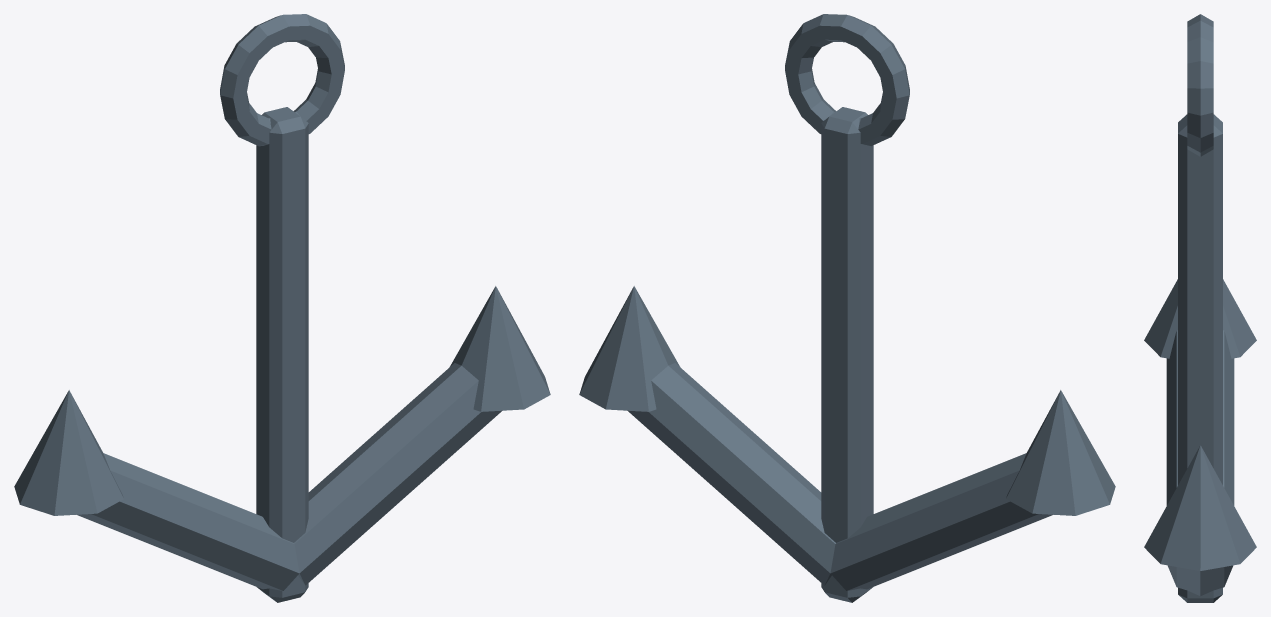
File: SH10_L07_Anchor.fbx
3 views of the same model, side by side, from view 1: azimuth 30°, elevation 25°; view 2: azimuth 150°, elevation 25°; view 3: azimuth 270°, elevation 25° (orthographic).
Visible parts, largest first — view 1: SH10_L07_Anchor; view 2: SH10_L07_Anchor; view 3: SH10_L07_Anchor.
Boxes of the visible parts, <box> form: SH10_L07_Anchor: <box>14,14,550,602</box>; SH10_L07_Anchor: <box>579,14,1115,602</box>; SH10_L07_Anchor: <box>1144,14,1256,602</box>.
Bounding box in the file's own units: 160 × 169 × 30.
